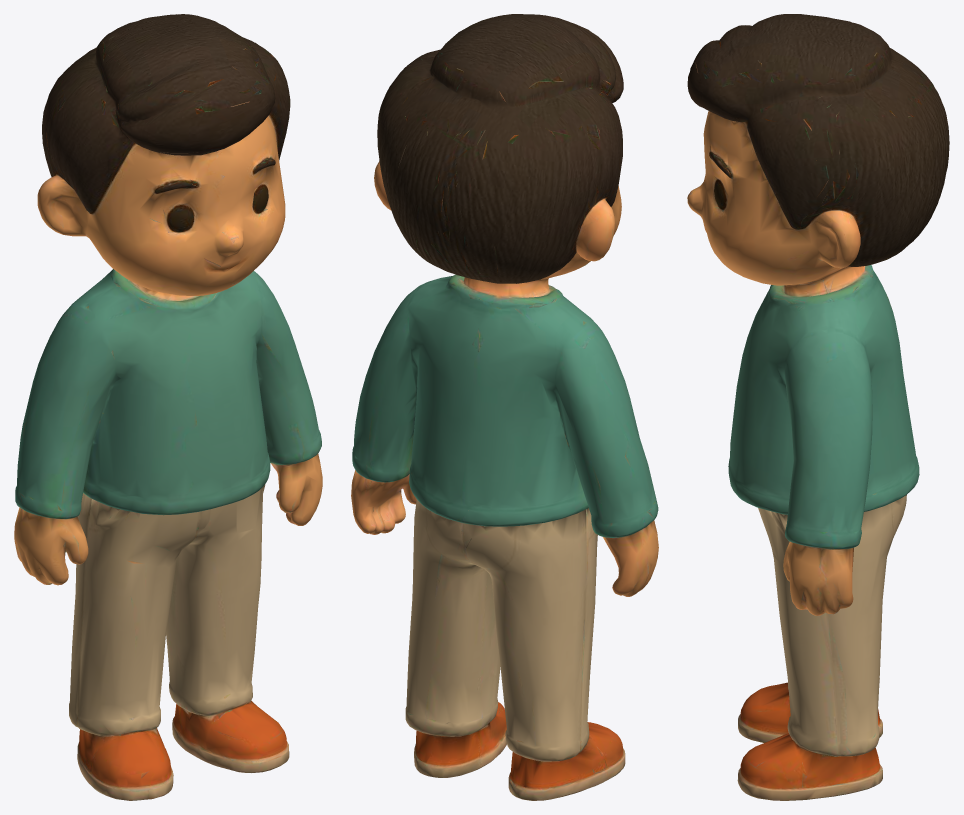
The model's file is human_male_lite.glb.
The picture shows the model from 3 angles, left to right: view 1: azimuth 30°, elevation 25°; view 2: azimuth 150°, elevation 25°; view 3: azimuth 270°, elevation 25°; orthographic projection.
Visible parts, largest first — view 1: Mesh_0; view 2: Mesh_0; view 3: Mesh_0.
Boxes of the visible parts, x1,y1,x2,y2 form: Mesh_0: (14,14,322,800); Mesh_0: (351,14,658,800); Mesh_0: (687,14,949,800).
Bounding box in the file's own units: 0.8017 × 1.9 × 0.6183.
Materials: 1 (1 with a texture image).
